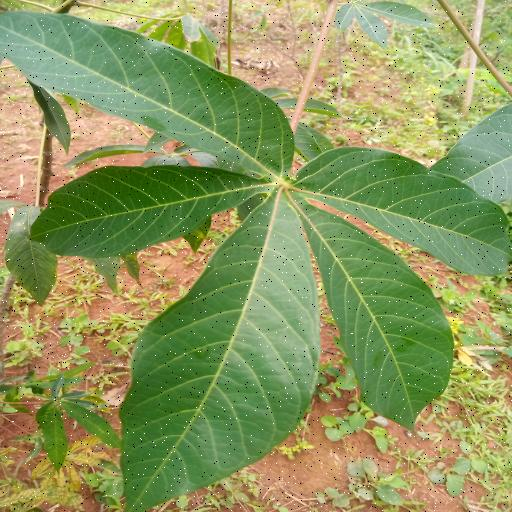Cassava_Healthy: (3, 8, 512, 507)
